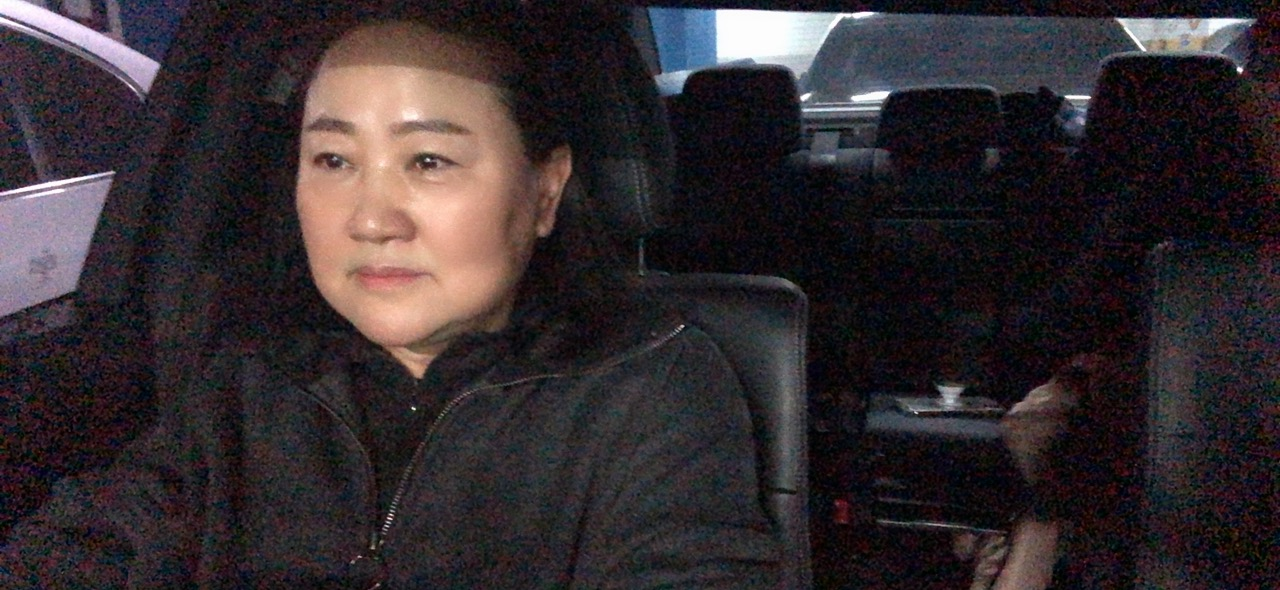front: (58, 7, 763, 590)
